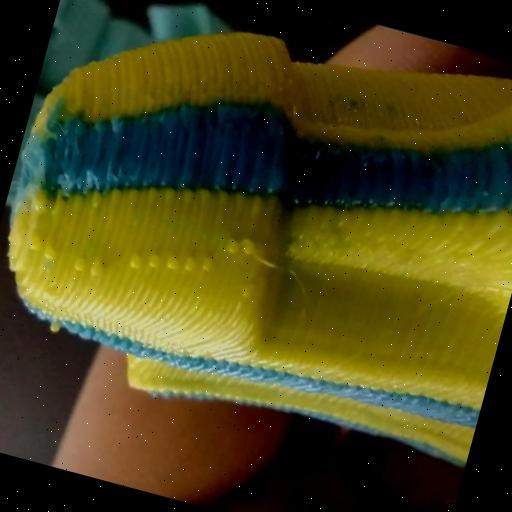blobs: (156, 243, 184, 281), (192, 248, 220, 280), (22, 226, 48, 256), (176, 248, 200, 280), (232, 230, 258, 258), (107, 113, 133, 141), (123, 246, 147, 276), (70, 248, 94, 276), (144, 246, 166, 274), (220, 230, 242, 258), (44, 312, 66, 339), (86, 184, 108, 208), (89, 110, 110, 134), (41, 242, 61, 262)
